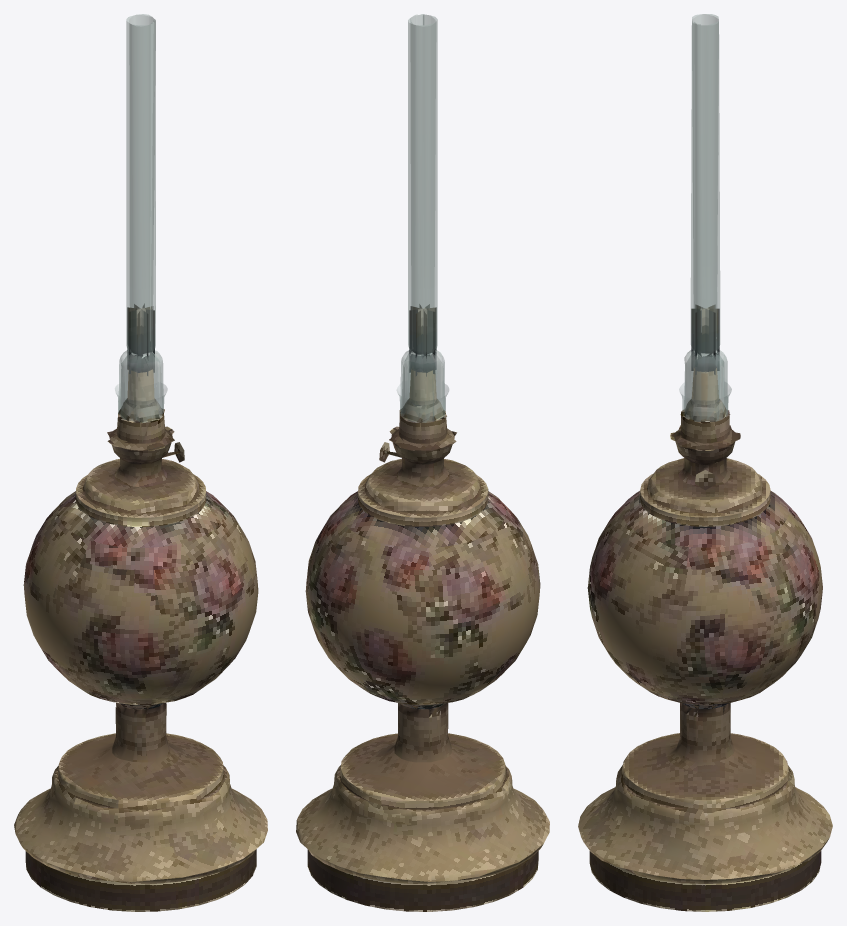
Rendered from b_oillamp.glb.
3 renders of one model, left to right at view 1: azimuth 30°, elevation 25°; view 2: azimuth 150°, elevation 25°; view 3: azimuth 270°, elevation 25°, orthographic.
Parts seen in each view (by area): view 1: body, glass, flame; view 2: body, glass, flame; view 3: body, glass, flame.
Part boxes in pixels (x1,y1,x2,y2): body: (14,367,267,911); glass: (115,14,167,422); flame: (127,304,154,375); body: (296,369,549,911); glass: (396,14,448,422); flame: (409,304,436,376); body: (578,368,832,911); glass: (679,14,731,421); flame: (691,305,719,374).
Bounding box in the file's own units: 0.2192 × 0.8016 × 0.2196.
3 materials, 3 textured.
